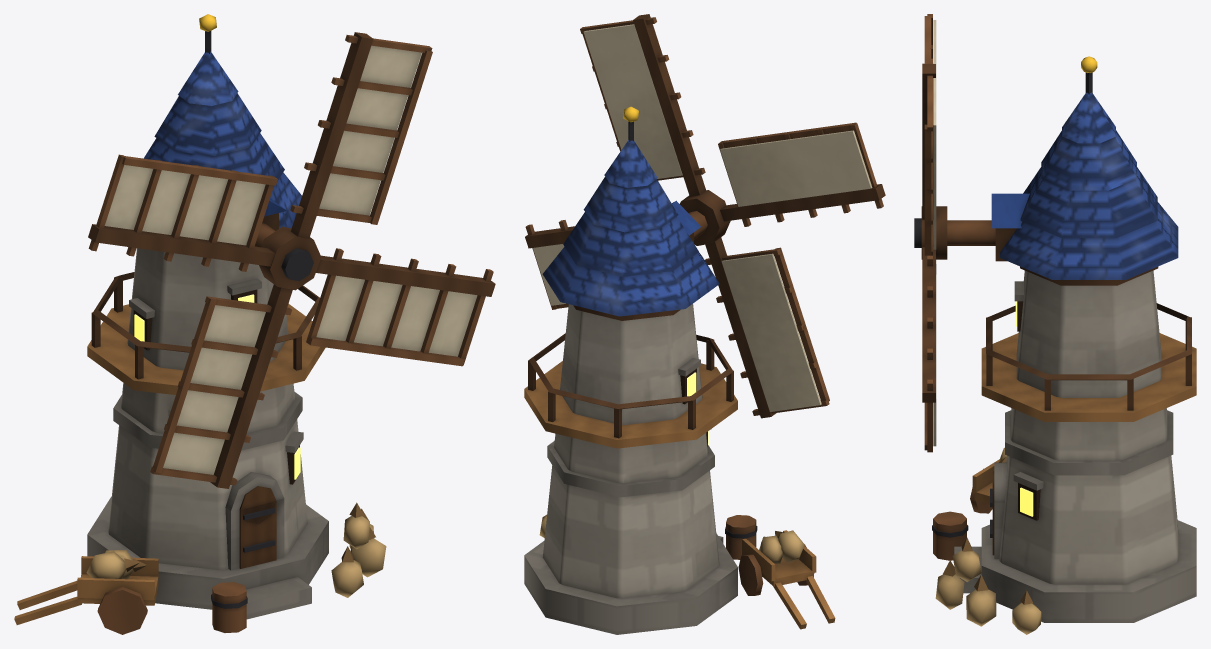
The model's file is windmill.glb.
The picture shows the model from 3 angles, left to right: view 1: azimuth 30°, elevation 25°; view 2: azimuth 150°, elevation 25°; view 3: azimuth 270°, elevation 25°; orthographic projection. The views are drawn at different scales.
Parts seen in each view (by area): view 1: windmill, sails; view 2: windmill, sails; view 3: windmill, sails.
Part boxes in pixels (x1,y1,x2,y2): windmill: (14, 14, 386, 634); sails: (88, 32, 495, 488); windmill: (524, 106, 835, 634); sails: (525, 14, 885, 418); windmill: (932, 56, 1196, 634); sails: (914, 14, 947, 452).
Bounding box in the file's own units: 0.8033 × 1.06 × 0.4974.
2 materials, 1 textured.
